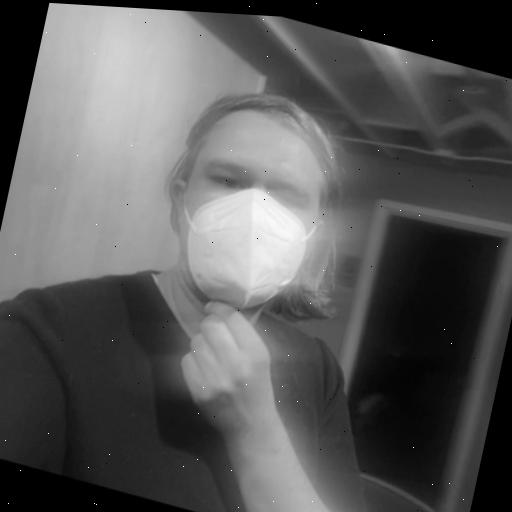mask: (138, 60, 370, 347)
